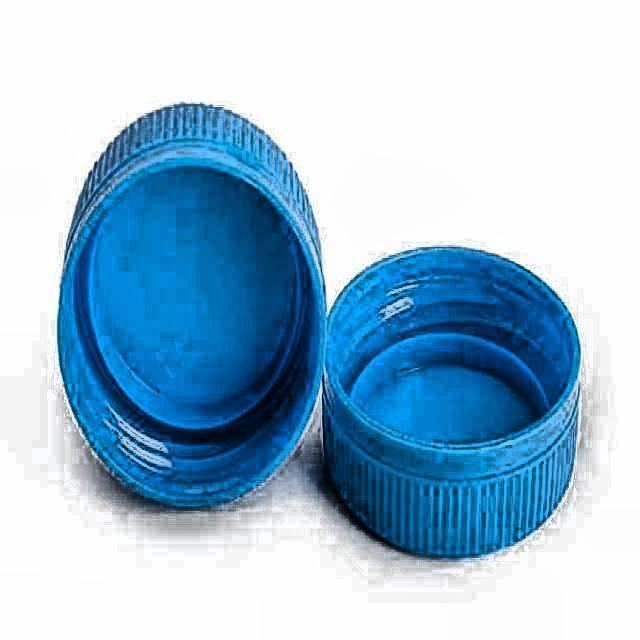plastic: (55, 102, 328, 513), (321, 246, 582, 564)
